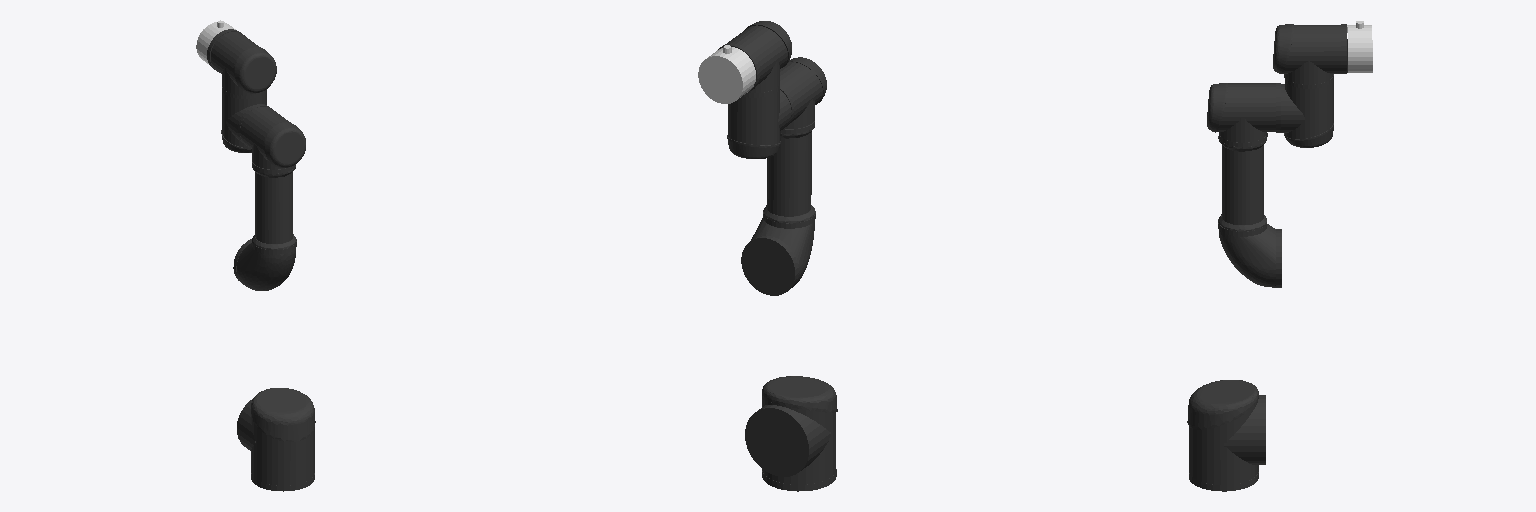
The robot description file, URDF, robot "UR3_urdf":
<?xml version="1.0"?>
<robot name="UR3_urdf">
    <link name="base">
        <inertial>
            <origin xyz="0.000079 0.000098 -0.005218" rpy="-3.140614 3.141544 -1.823162" />
            <inertia iyy="0.0014176038093865" izz="0.0016785468906164" iyz="0.0" ixz="0.0" ixy="0.0" ixx="0.0014156427932903" />
            <mass value="1.0" />
        </inertial>
        <collision>
            <origin xyz="0.000000 0.000000 0.000000" rpy="-3.141593 3.141593 -3.141593" />
            <geometry>
                <mesh filename="package://ur_description/meshes/ur3/ur3_base.dae" />
            </geometry>
        </collision>
        <visual>
            <origin xyz="0.000125 0.000086 -0.000000" rpy="-3.141593 3.141593 -3.141593" />
            <geometry>
                <mesh filename="package://ur_description/meshes/ur3/ur3_base_visual.dae" />
            </geometry>
            <material name="base_texture">
                <color rgba="0.282353 0.282353 0.282353 1.0" />
            </material>
        </visual>
    </link>
    <link name="link_1">
        <inertial>
            <origin xyz="-0.003125 0.000075 -0.001374" rpy="3.042686 3.141884 1.57" />
            <inertia iyy="0.013356528244913" izz="0.0099014118313789" iyz="0.0" ixz="0.0" ixy="0.0" ixx="0.014095027931035" />
            <mass value="1.0" />
        </inertial>
        <collision>
            <origin xyz="0.000000 0.000000 0.000000" rpy="-3.141593 3.141593 1.57" />
            <geometry>
                <mesh filename="package://ur_description/meshes/ur3/ur3_link1.dae" />
            </geometry>
        </collision>
        <visual>
            <origin xyz="0.000000 -0.000000 0.000354" rpy="-3.141593 3.141593 1.57" />
            <geometry>
                <mesh filename="package://ur_description/meshes/ur3/ur3_link1_visual.dae" />
            </geometry>
            <material name="link1_texture">
                <color rgba="0.282353 0.282353 0.282353 1.0" />
            </material>
        </visual>
    </link>
    <joint type="revolute" name="joint_1">
        <axis xyz="0 0 1" />
        <limit upper="6.2831854820251" lower="-6.2831854820251" effort="50.0" velocity="3.1415927410126" />
        <parent link="base" />
        <child link="link_1" />
        <origin xyz="-0.003618 -0.000070 0.104020" rpy="-3.14 3.141593 -3.141593" />
    </joint>
    <link name="link_2">
        <inertial>
            <origin xyz="0.000073 -0.117 0.03" rpy="-1.57 1.57 -3.141593" />
            <inertia iyy="0.21194118261337" izz="0.024627504870296" iyz="0.0" ixz="0.0" ixy="0.0" ixx="0.21848785877228" />
            <mass value="2.5" />
        </inertial>
        <collision>
            <origin xyz="0.000073 -0.117 0.03" rpy="-1.57 1.57 -3.141593" />
            <geometry>
                <mesh filename="package://ur_description/meshes/ur3/ur3_link2.dae" />
            </geometry>
        </collision>
        <visual>
            <origin xyz="0.000073 -0.117 0.06" rpy="-1.57 1.57 -3.141593" />
            <geometry>
                <mesh filename="package://ur_description/meshes/ur3/ur3_link2_visual.dae" />
            </geometry>
            <material name="link2_texture">
                <color rgba="0.508235 0.761224 0.903529 1.0" />
            </material>
        </visual>
    </link>
    <joint type="revolute" name="joint_2">
        <axis xyz="0 0 1" />
        <limit upper="6.2831854820251" lower="-6.2831854820251" effort="50.0" velocity="3.1415927410126" />
        <parent link="link_1" />
        <child link="link_2" />
        <origin xyz="0 0.05 0.0055" rpy="1.57 3.141593 -3.141593" />
    </joint>
    <link name="link_3">
        <inertial>
            <origin xyz="0 0.1017 -0.0265" rpy="0 1.57 1.57" />
            <inertia iyy="0.14924985170364" izz="0.01328753773123" iyz="0.0" ixz="0.0" ixy="0.0" ixx="0.15226745605469" />
            <mass value="2.5" />
        </inertial>
        <collision>
            <origin xyz="0 0.1017 -0.0265" rpy="0 1.57 1.57" />
            <geometry>
                <mesh filename="package://ur_description/meshes/ur3/ur3_link3.dae" />
            </geometry>
        </collision>
        <visual>
            <origin xyz="0 0.1017 -0.0265" rpy="0 1.57 1.57" />
            <geometry>
                <mesh filename="package://ur_description/meshes/ur3/ur3_link3_visual.dae" />
            </geometry>
            <material name="link3_texture">
                <color rgba="0.282353 0.282353 0.282353 1.0" />
            </material>
        </visual>
    </link>
    <joint type="revolute" name="joint_3">
        <axis xyz="0 0 1" />
        <limit upper="6.2831854820251" lower="-6.2831854820251" effort="50.0" velocity="3.1415927410126" />
        <parent link="link_2" />
        <child link="link_3" />
        <origin xyz="0 -0.245 0" rpy="0 0 -3.141593" />
    </joint>
    <link name="link_4">
        <inertial>
            <origin xyz="0 0 0.0543" rpy="0 1.57 1.57" />
            <inertia iyy="0.0074614337645471" izz="0.0046329372562468" iyz="0.0" ixz="0.0" ixy="0.0" ixx="0.0076239206828177" />
            <mass value="1.0" />
        </inertial>
        <collision>
            <origin xyz="0 0 0.0543" rpy="0 1.57 1.57" />
            <geometry>
                <mesh filename="package://ur_description/meshes/ur3/ur3_link4.dae" />
            </geometry>
        </collision>
        <visual>
            <origin xyz="0 0 0.0543" rpy="0 1.57 1.57" />
            <geometry>
                <mesh filename="package://ur_description/meshes/ur3/ur3_link4_visual.dae" />
            </geometry>
            <material name="link4_texture">
                <color rgba="0.282353 0.282353 0.282353 1.0" />
            </material>
        </visual>
    </link>
    <joint type="revolute" name="joint_4">
        <axis xyz="0 0 1" />
        <limit upper="6.2831854820251" lower="-6.2831854820251" effort="50.0" velocity="6.2831854820251" />
        <parent link="link_3" />
        <child link="link_4" />
        <origin xyz="0 0.211 0.00" rpy="-3.141593 3.141593 -3.141593" />
    </joint>
    <link name="link_5">
        <inertial>
            <origin xyz="0.00 -0.0 0.081" rpy="0 0 1.57" />
            <inertia iyy="0.0046688904985785" izz="0.0076049752533436" iyz="0.0" ixz="0.0" ixy="0.0" ixx="0.007785230409354" />
            <mass value="1.0" />
        </inertial>
        <collision>
            <origin xyz="0.0000 -0.0000 0.081" rpy="0 0 1.57" />
            <geometry>
                <mesh filename="package://ur_description/meshes/ur3/ur3_link5.dae" />
            </geometry>
        </collision>
        <visual>
            <origin xyz="0.0000 -0.0000 0.081" rpy="0 0 1.57" />
            <geometry>
                <mesh filename="package://ur_description/meshes/ur3/ur3_link5_visual.dae" />
            </geometry>
            <material name="link5_texture">
                <color rgba="0.282353 0.282353 0.282353 1.0" />
            </material>
        </visual>
    </link>
    <joint type="revolute" name="joint_5">
        <axis xyz="0 0 1" />
        <limit upper="6.2831854820251" lower="-6.2831854820251" effort="50.0" velocity="6.2831854820251" />
        <parent link="link_4" />
        <child link="link_5" />
        <origin xyz="0 0 0.058" rpy="1.57 3.141593 3.14" />
    </joint>
    <link name="link_6">
        <inertial>
            <origin xyz="0.000000 0.003 0.06400" rpy="-1.570796 -1.570796 0.000000" />
            <inertia iyy="0.0026207731571048" izz="0.0038703854661435" iyz="0.0" ixz="0.0" ixy="0.0" ixx="0.0026207731571048" />
            <mass value="1.0" />
        </inertial>
        <collision>
            <origin xyz="0.000000 0.003 0.06400" rpy="-1.570796 -1.570796 0.000000" />
            <geometry>
                <cylinder length="0.032068222761154" radius="0.03120630979538" />
            </geometry>
        </collision>
        <visual>
            <origin xyz="0.000000 0.003 0.06400" rpy="-1.570796 -1.570796 0.000000" />
            <geometry>
                <mesh filename="package://ur_description/meshes/ur3/ur3_link6_visual.dae" />
            </geometry>
            <material name="link6_texture">
                <color rgba="0.870588 0.870588 0.870588 1.0" />
            </material>
        </visual>
    </link>
    <joint type="continuous" name="joint_6">
        <axis xyz="0 0 1" />
        <parent link="link_5" />
        <child link="link_6" />
        <origin xyz="0 0 0.0835" rpy="-1.570796 3.141593 -3.14" />
    </joint>
</robot>

--- Facts derived from the render (not from the file) ---
The picture shows the robot from 3 angles, left to right: view 1: azimuth 30°, elevation 25°; view 2: azimuth 150°, elevation 25°; view 3: azimuth 270°, elevation 25°; orthographic projection.
Model UR3_urdf with 7 links and 6 joints (5 revolute, 1 continuous), rooted at base, posed all joints at 0.
Links seen in each view (by area): view 1: link_3, link_1, link_5, link_4, link_6; view 2: link_3, link_1, link_4, link_5, link_6; view 3: link_3, link_1, link_5, link_4, link_6.
Link boxes in pixels (<box>): link_3: <box>233,105,305,290</box>; link_1: <box>237,388,315,491</box>; link_5: <box>207,29,276,95</box>; link_4: <box>221,87,266,152</box>; link_6: <box>196,20,235,63</box>; link_3: <box>741,57,826,295</box>; link_1: <box>745,376,837,491</box>; link_4: <box>727,85,791,158</box>; link_5: <box>718,21,791,93</box>; link_6: <box>698,45,755,103</box>; link_3: <box>1207,83,1281,287</box>; link_1: <box>1187,380,1265,491</box>; link_5: <box>1273,24,1347,84</box>; link_4: <box>1280,74,1333,147</box>; link_6: <box>1347,21,1372,72</box>.
Bounding box of the posed robot: 0.092 × 0.2379 × 0.6441 m (x, y, z).
Meshes: 7 distinct files referenced, 5 mesh visuals loaded (5 Collada DAE); not drawn: 2 (reference not matched to a file when rendering).
